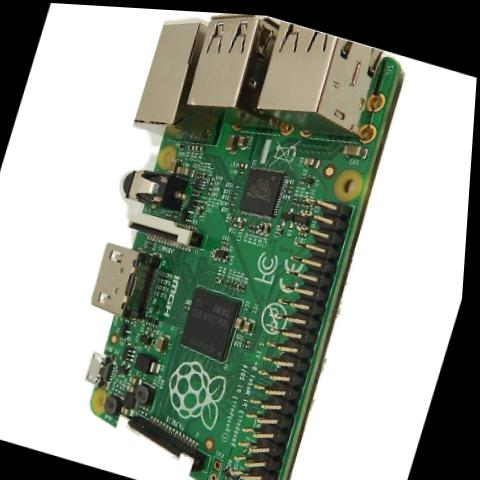Raspberry-Pi-1-Model-B-: (38, 3, 417, 480)
